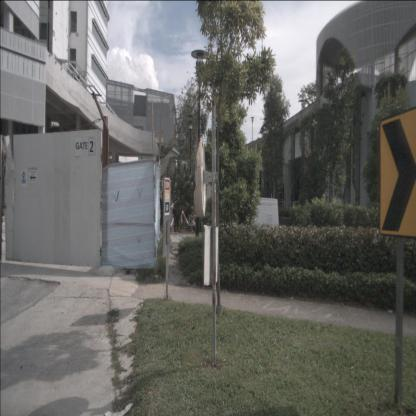vehicle-bicycle: (177, 205, 199, 235)
